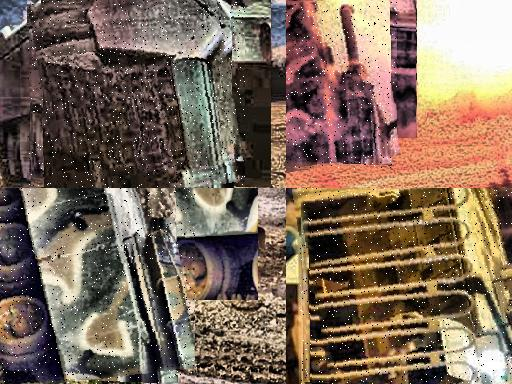tanks: (301, 189, 512, 384), (29, 1, 245, 189), (1, 189, 196, 384), (287, 2, 398, 170)
